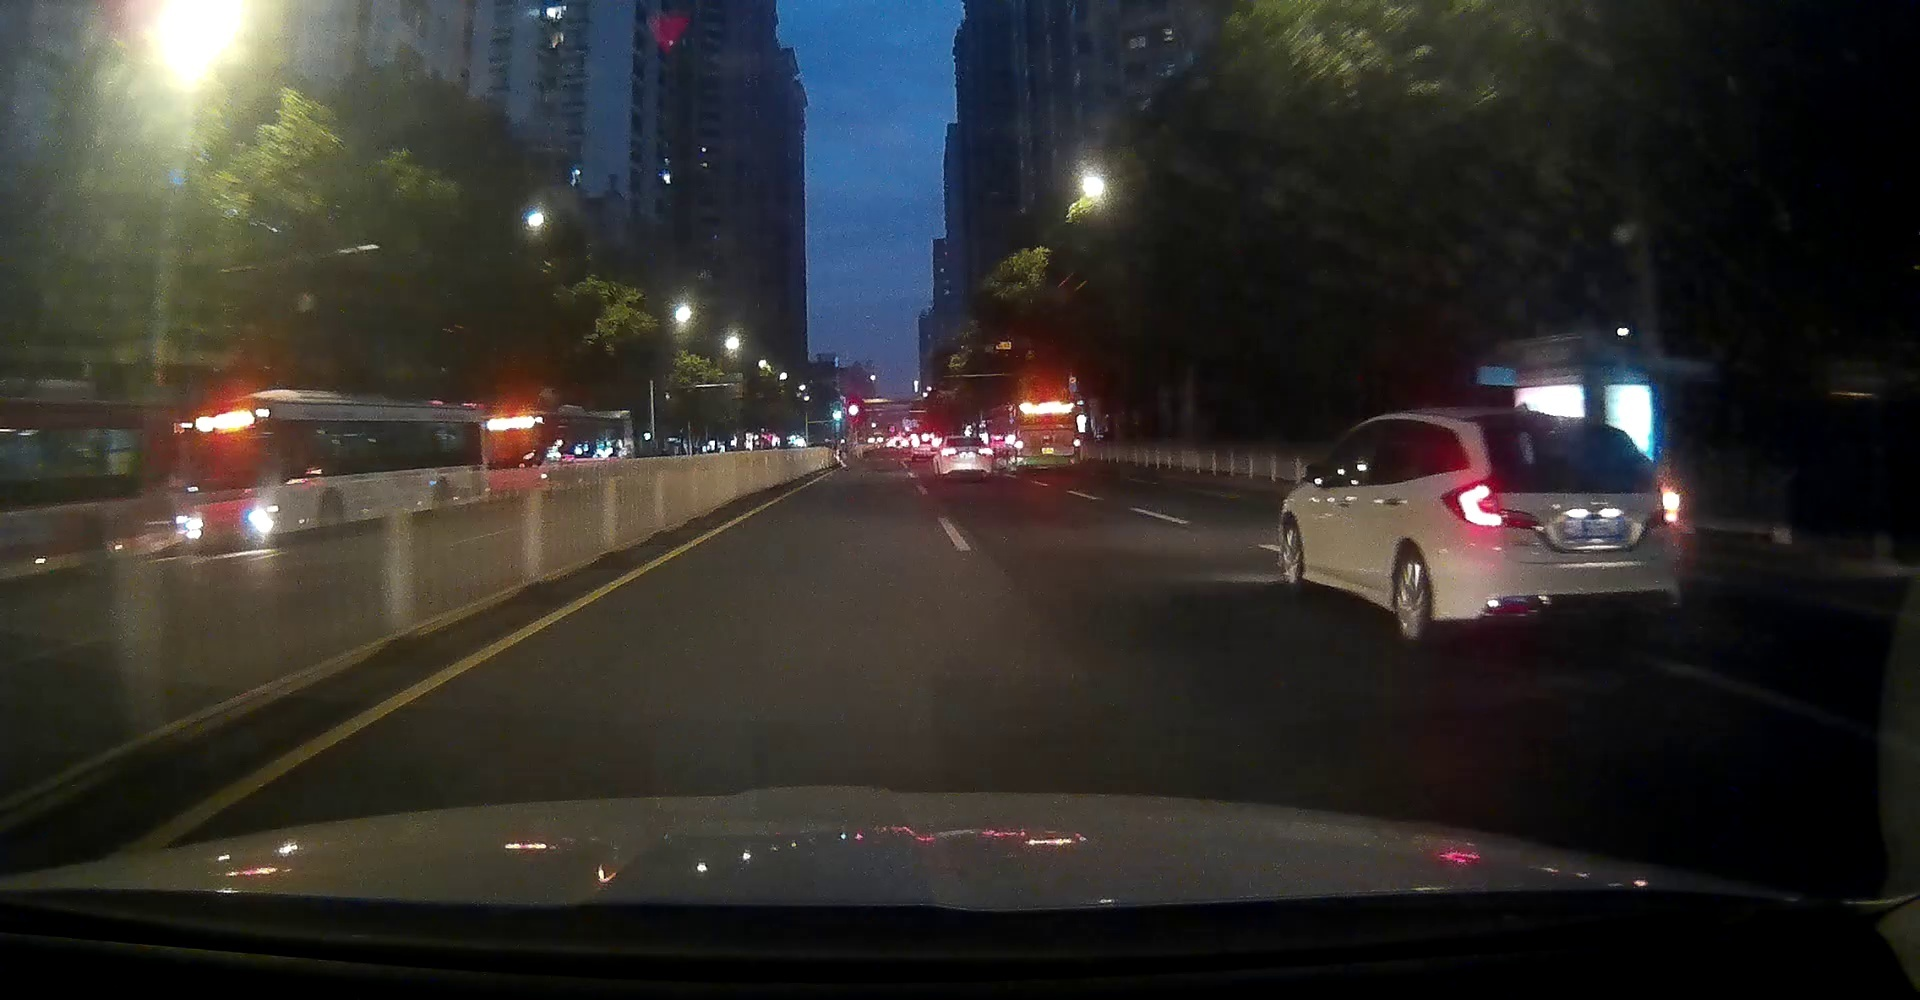L_light: (1441, 478, 1539, 530), (940, 447, 957, 457), (1015, 438, 1023, 456)
R_light: (1641, 478, 1680, 528), (977, 447, 993, 457), (1073, 437, 1079, 456)
T_light: (1550, 429, 1591, 437), (1043, 397, 1058, 401), (959, 438, 970, 440)
night-no: (1439, 409, 1683, 643), (1015, 396, 1081, 476), (940, 435, 994, 481)
